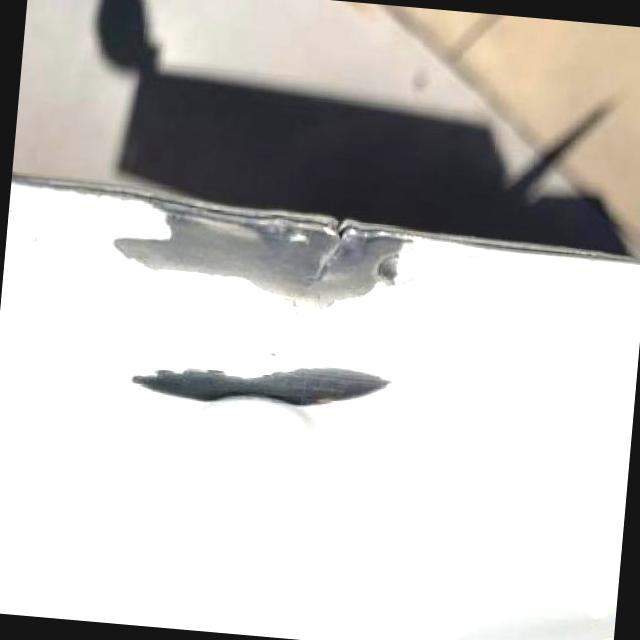crack: (300, 230, 370, 298)
